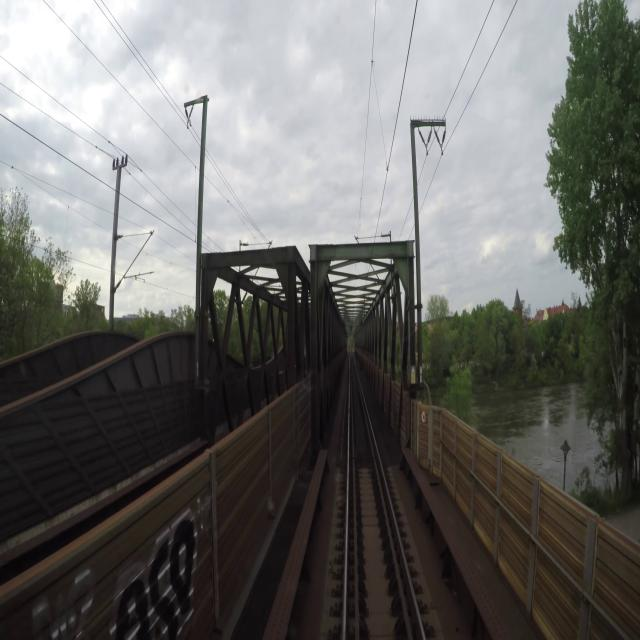rail-track: (352, 361, 405, 639), (347, 472, 352, 639)
